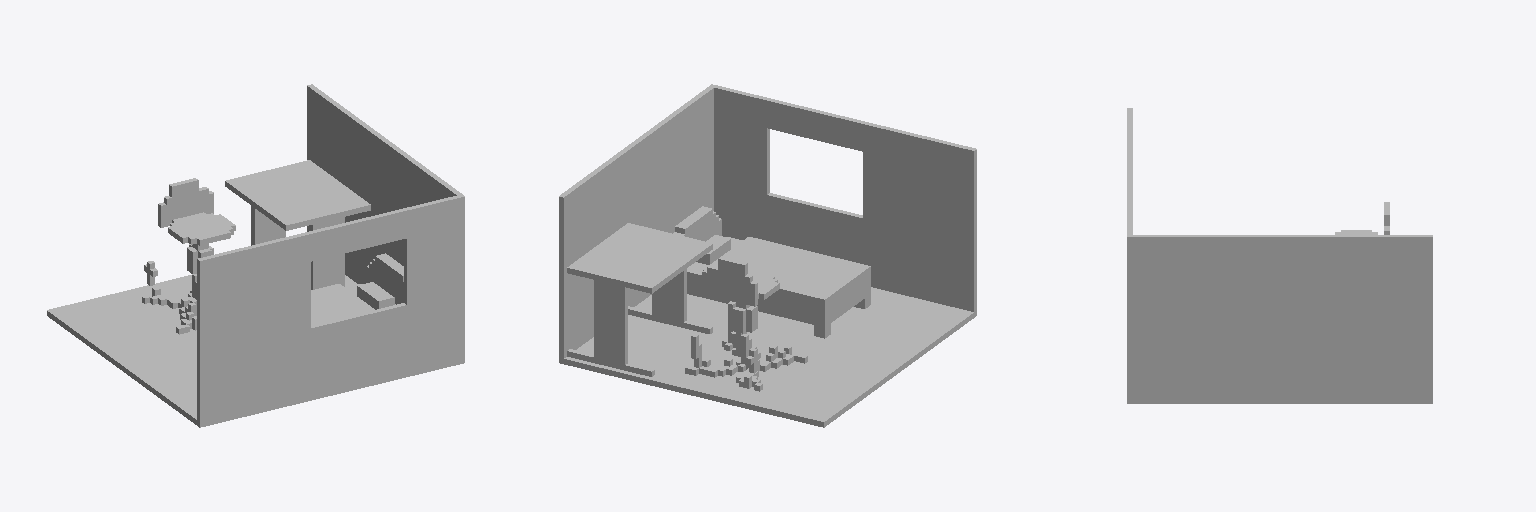
Rendered from room.obj.
3 renders of one model, left to right at view 1: azimuth 30°, elevation 25°; view 2: azimuth 150°, elevation 25°; view 3: azimuth 270°, elevation 25°, orthographic.
Size of the model in its own units: 50 by 30 by 50.